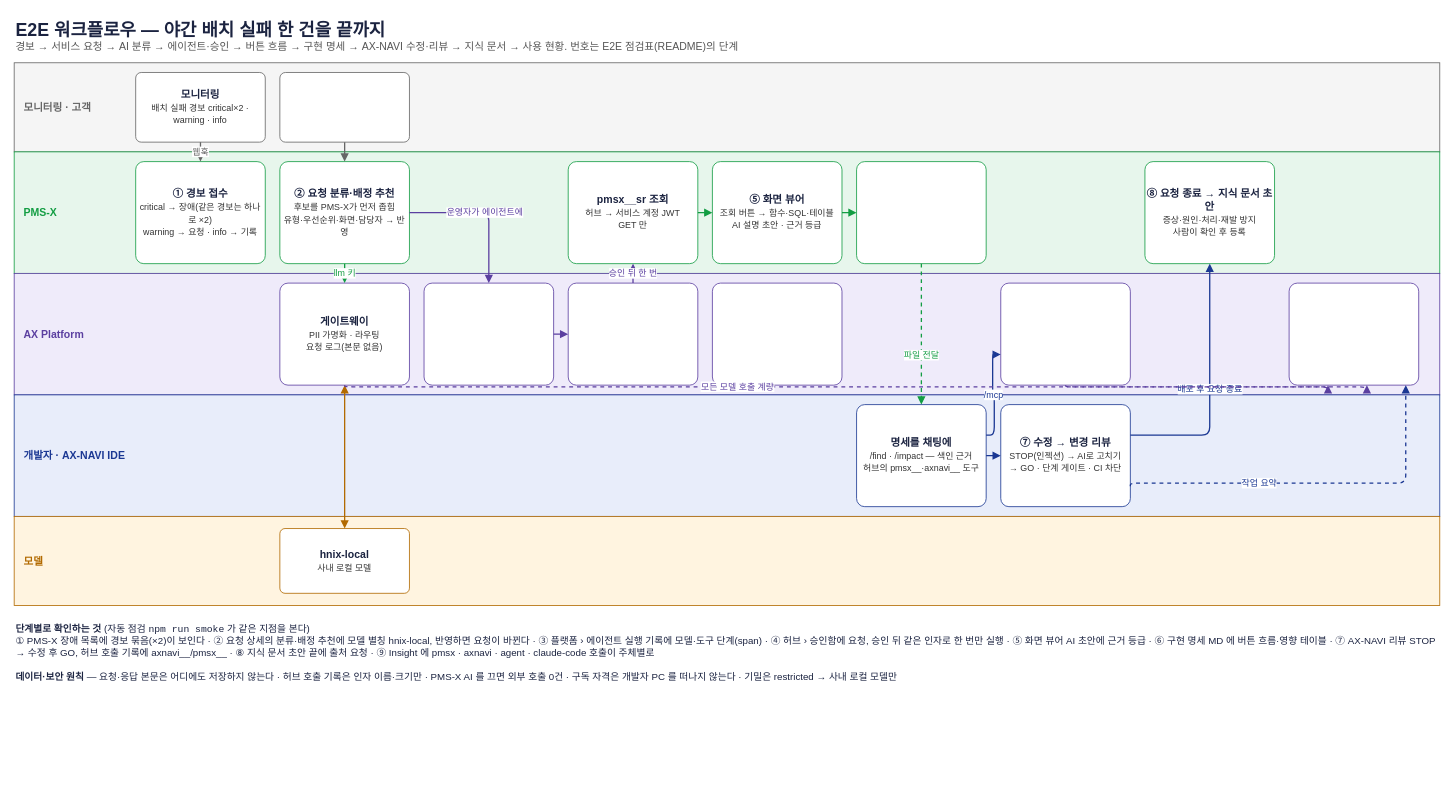
Some shapes in this 1454 by 809 pixel diagram are drawn without their labels. The shapes that lost their labels are listed below. From the top down, each one's centre as x and y in pixels, then its label:
[344,107]: 고객 요청 창구 "퇴사자가 함께 조회돼요"
[921,212]: ⑥ 구현 명세 요구사항·버튼 흐름·영향 테이블 소스 위치·테스트 항목 MD·JSON
[488,333]: ③ 에이전트 실행 SM 운영 도우미 — 실행자 권한 모델 → pmsx__srs → 모델
[632,333]: ④ 승인함 정책 '요청 상세는 승인 후' 책임자 승인 → 이어서 실행
[777,333]: 문서 RAG 장애 대응 중 운영 매뉴얼 검색 임베딩 hnix-embed(사내 로컬)
[1065,333]: MCP 허브 axnavi__table · pmsx__impact 호출 감사(인자 이름·크기만)
[1353,333]: ⑨ Insight · 관측 호출 주체별(PMS-X·AX-NAVI· 에이전트·Claude Code) 사용량
